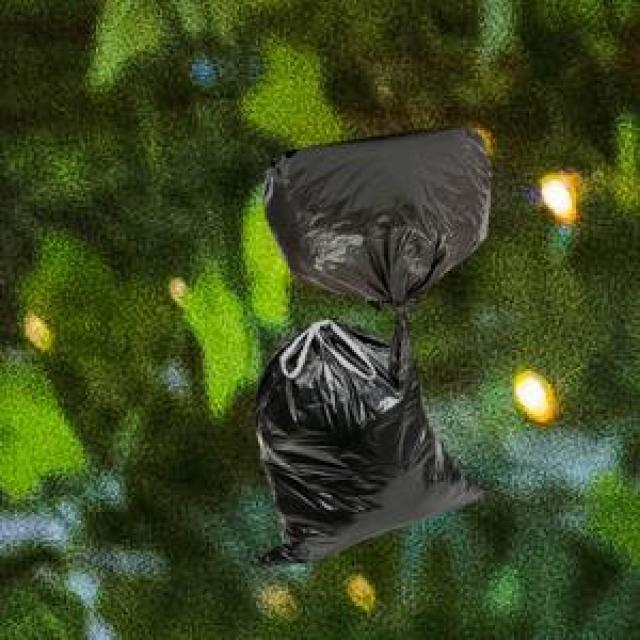Trashbag: (239, 314, 487, 580), (254, 120, 499, 351)
